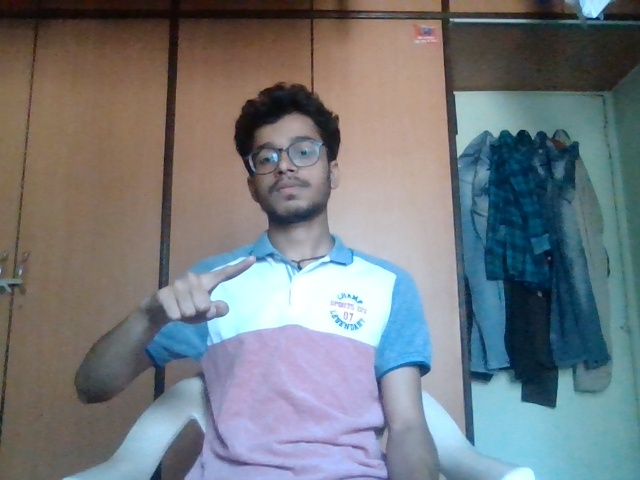you: (154, 250, 259, 332)
